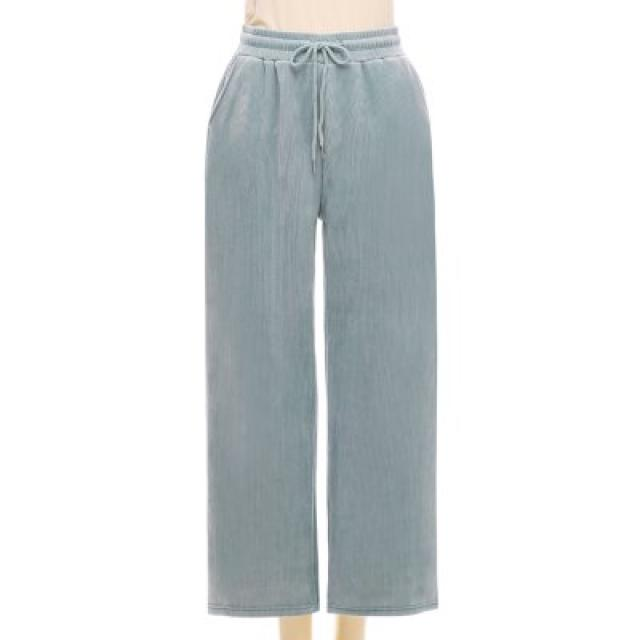pants: (195, 23, 446, 617)
